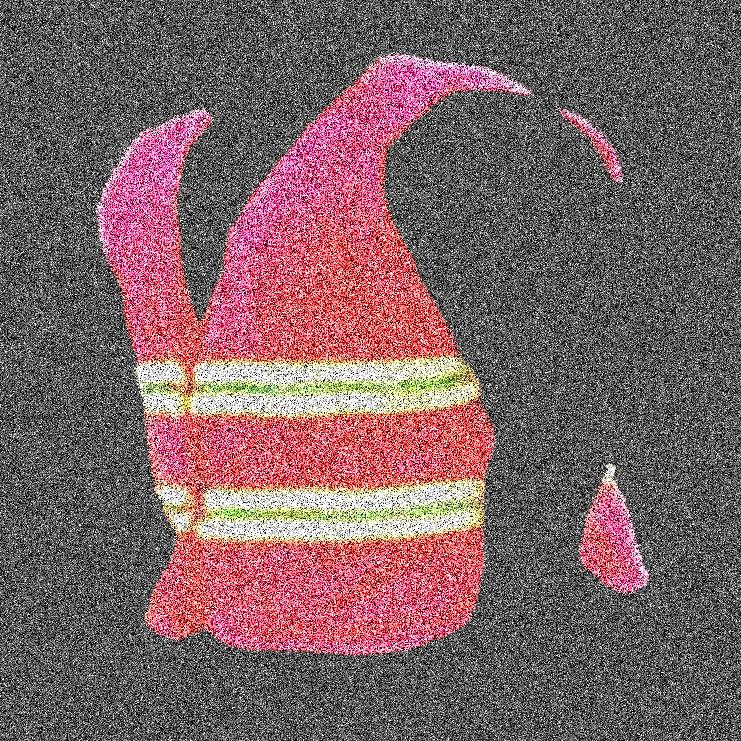Colete: (206, 0, 379, 740)
